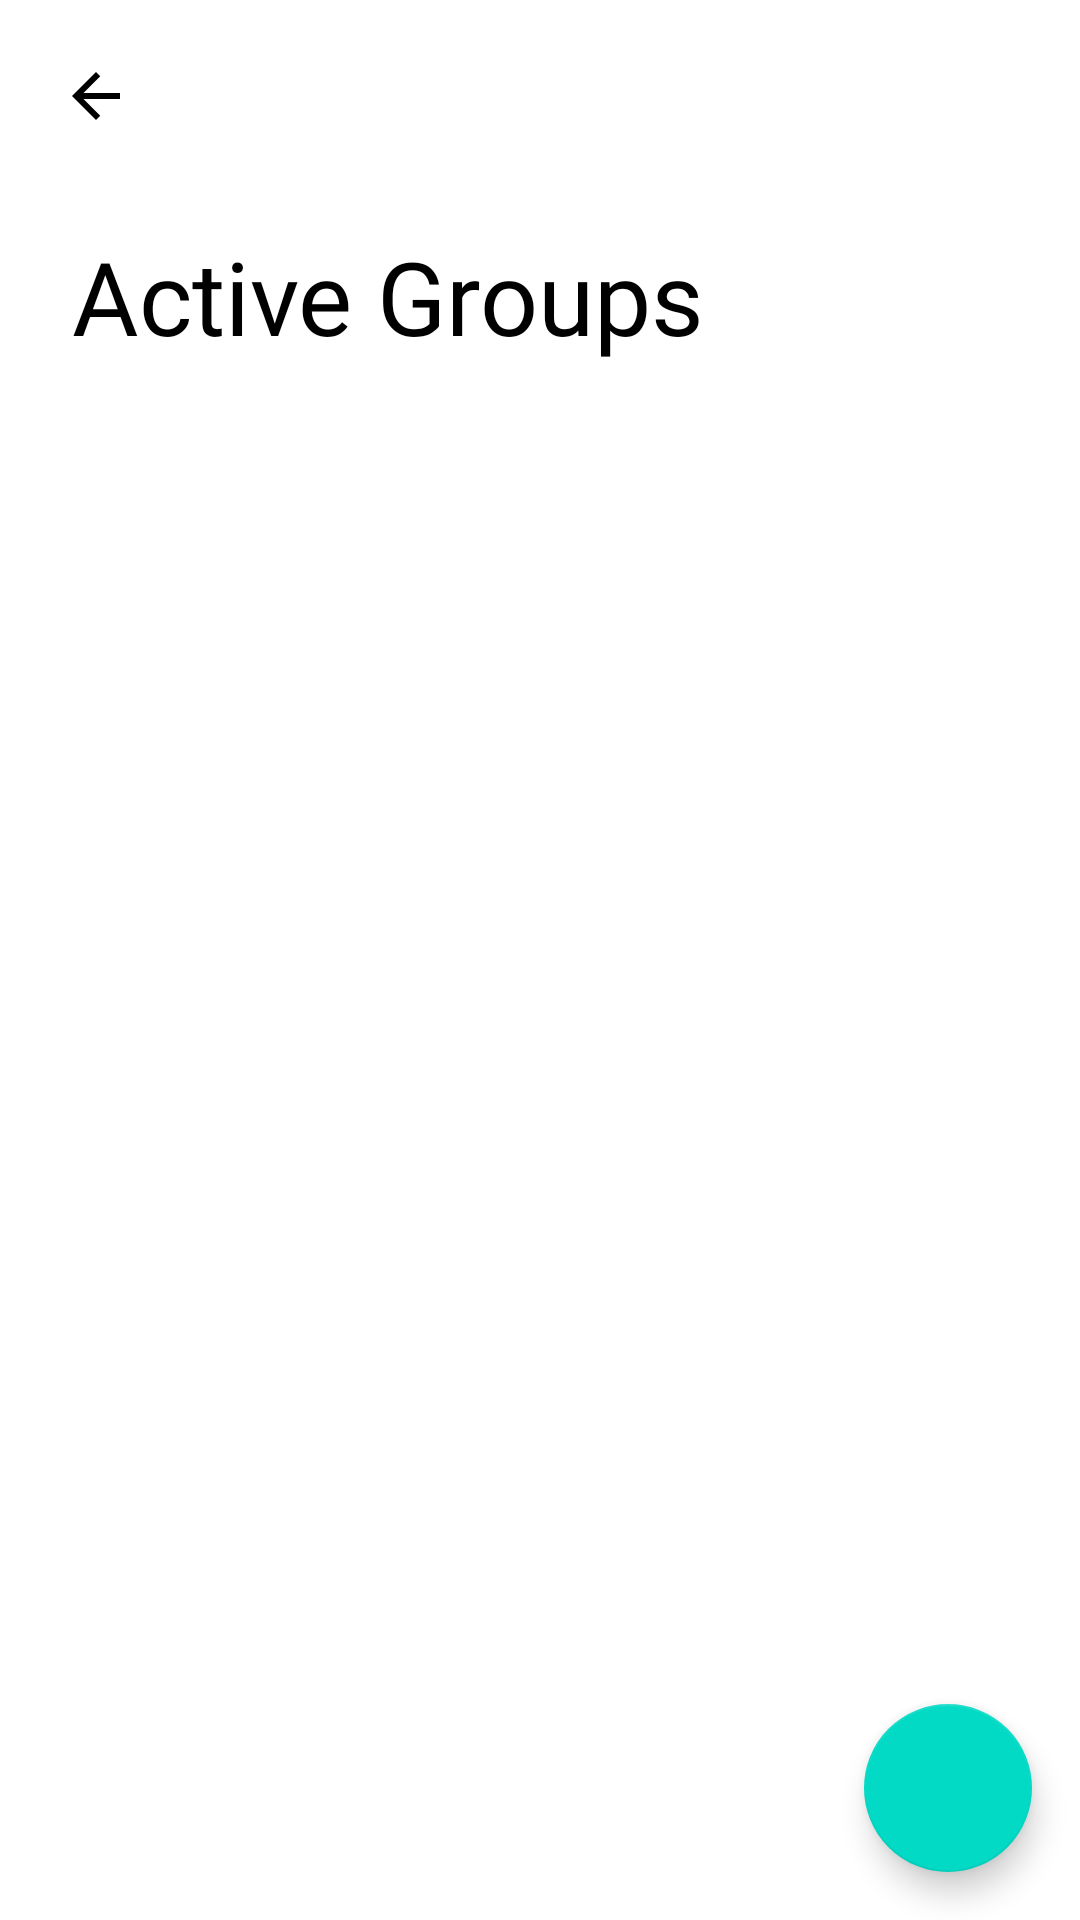

Named icons in this screenshot (1080 x 1920) and their centers, point (x, y):
Return Button: point (96, 96)
